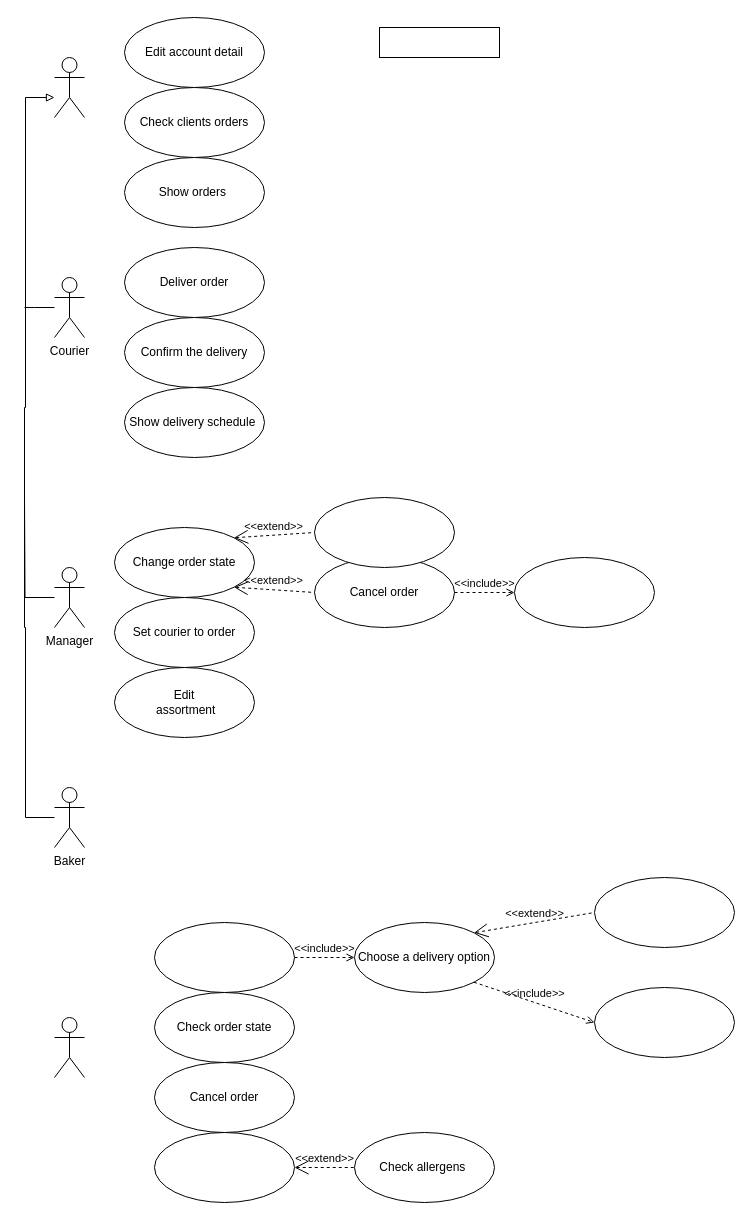
The diagram is 752 pixels wide and 1220 high, and some of its shapes have lost their labels. Each missing label, with the box of its shape:
Check assortment: (154, 1132, 294, 1202)
Choose a delivery date: (594, 876, 734, 948)
Client: (54, 1016, 84, 1078)
Close order: (314, 496, 454, 568)
Pay order: (594, 986, 734, 1058)
Place order: (154, 922, 294, 992)
Return money: (514, 556, 654, 628)
Use Case Diagram: (378, 26, 500, 58)
Worker: (54, 56, 84, 118)
